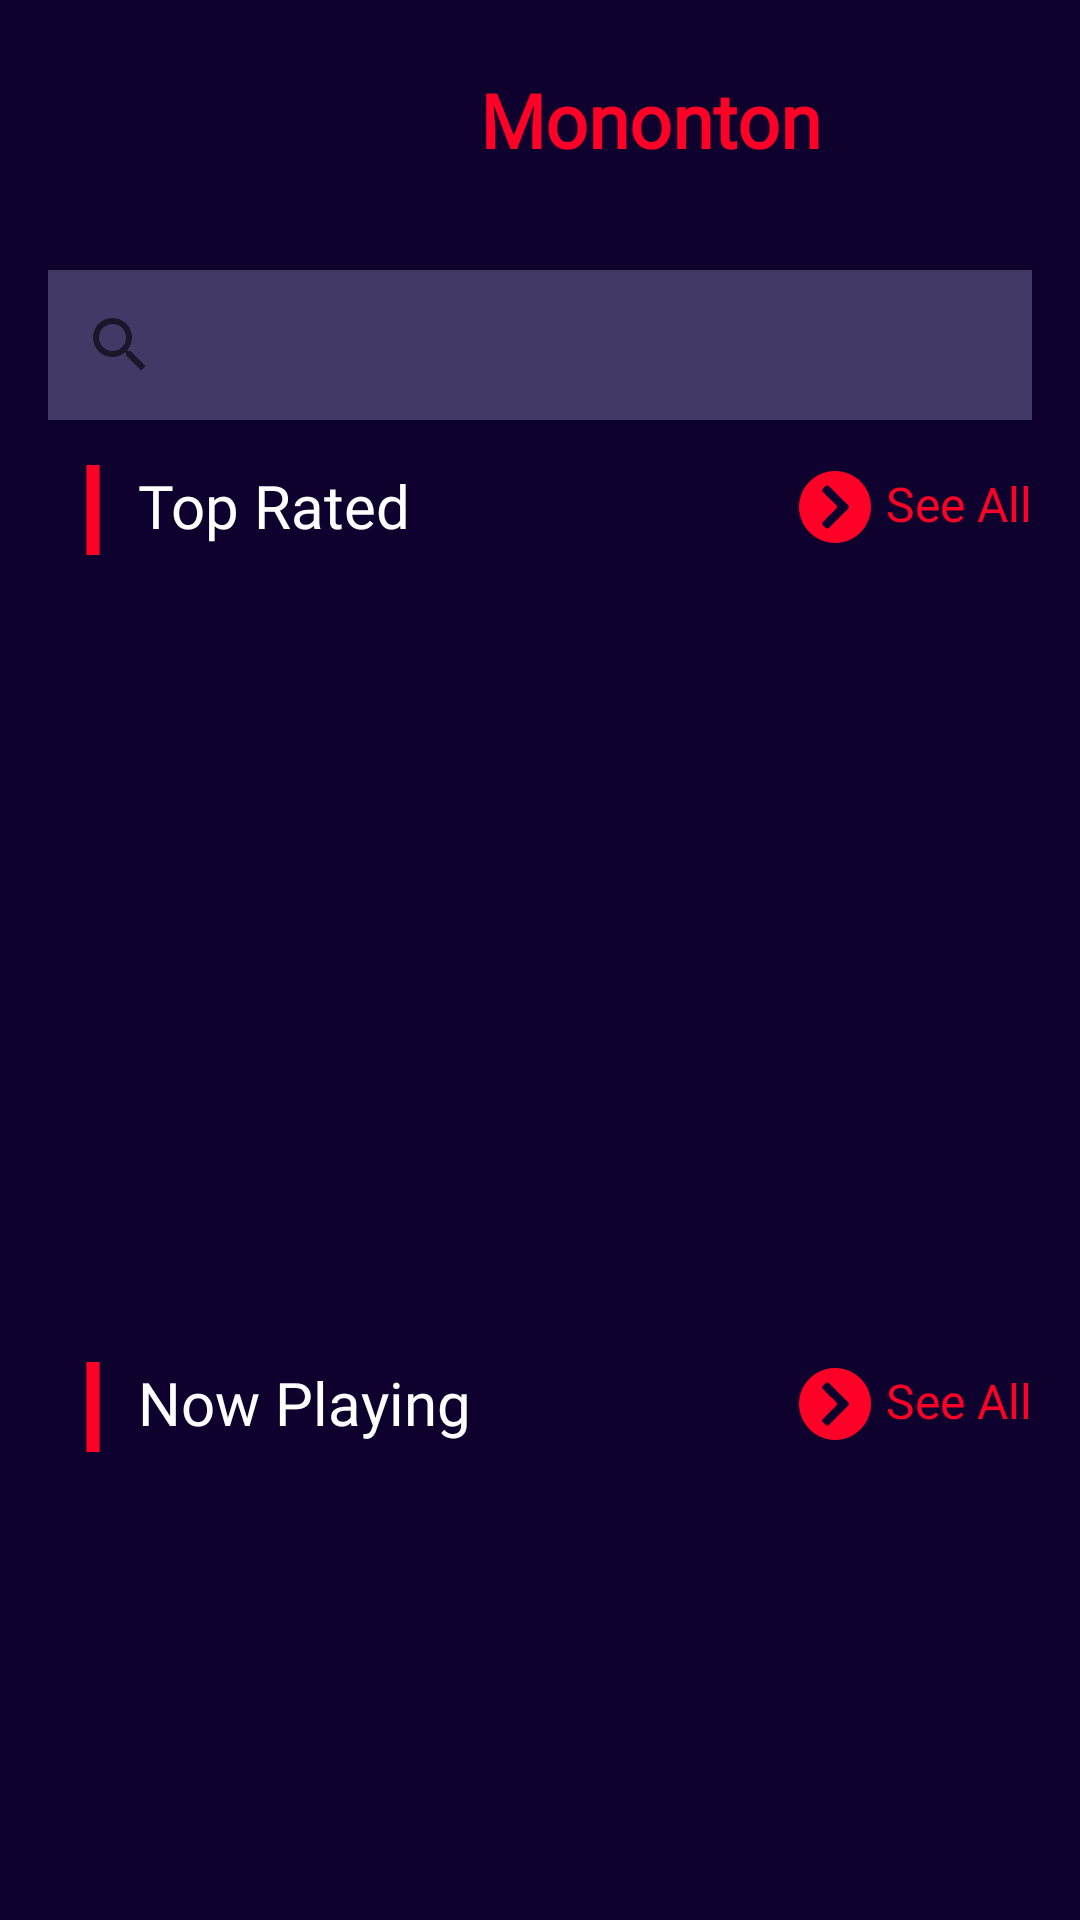

Where to tap for icons on this 1080x1920 app screen, as [x,y]:
right arrow: [835,507], [835,1404]
